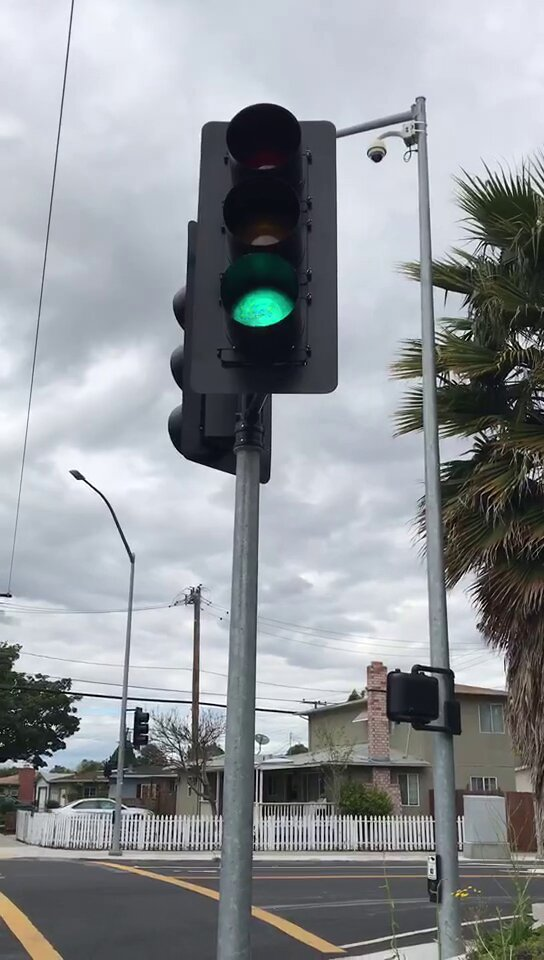green_light: (200, 122, 338, 392)
